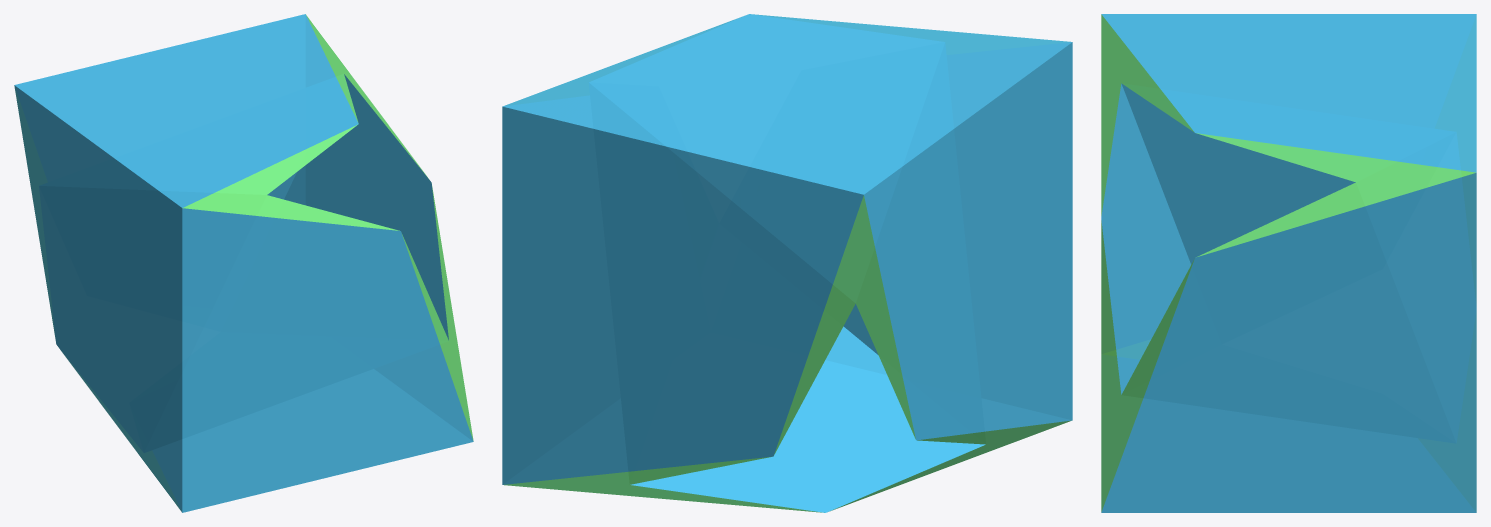
The model's file is Regular3TetragonalToroid_C.obj.
3 views of the same model, side by side, from view 1: azimuth 30°, elevation 25°; view 2: azimuth 150°, elevation 25°; view 3: azimuth 270°, elevation 25° (orthographic). The views are drawn at different scales.
Size of the model in its own units: 5.6 by 5.6 by 5.6.
